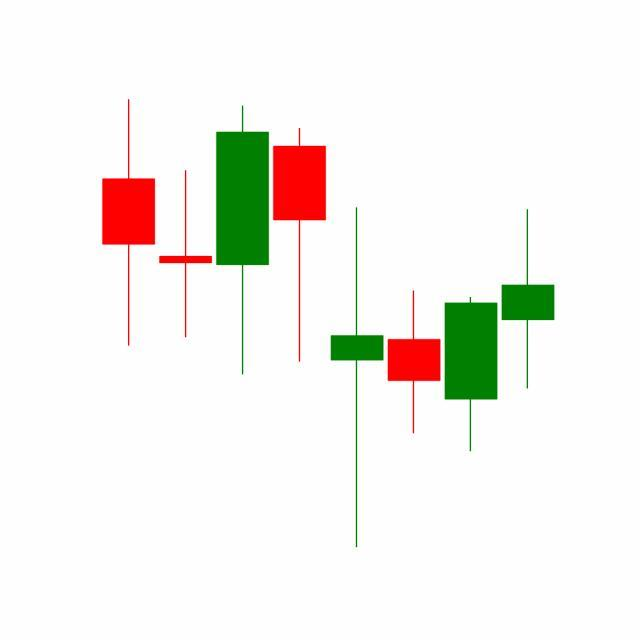Hikkake Pattern: (270, 124, 555, 549)
